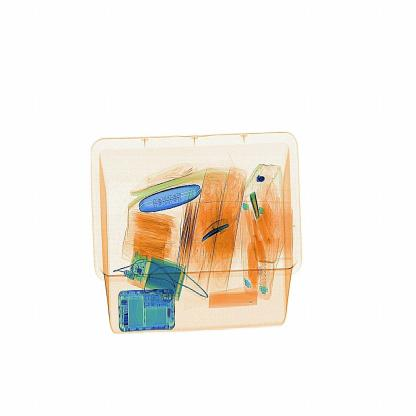wrench: (194, 211, 238, 245)
